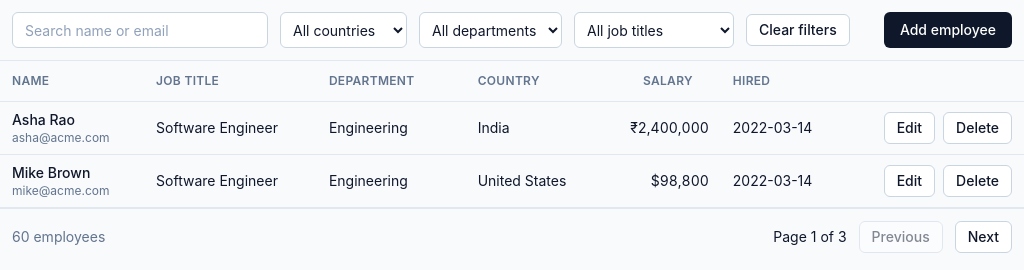
Test: EmployeesPage › paging › disables Previous on the first page and Next on the last
This screenshot has width=1024, height=270.
Expected: the text "Asha Rao" is shown, [12, 110, 75, 128]
Expected: the button "Previous" is disabled, [859, 220, 943, 252]
Click the button "Next" at point(983, 236), box [955, 220, 1012, 252]
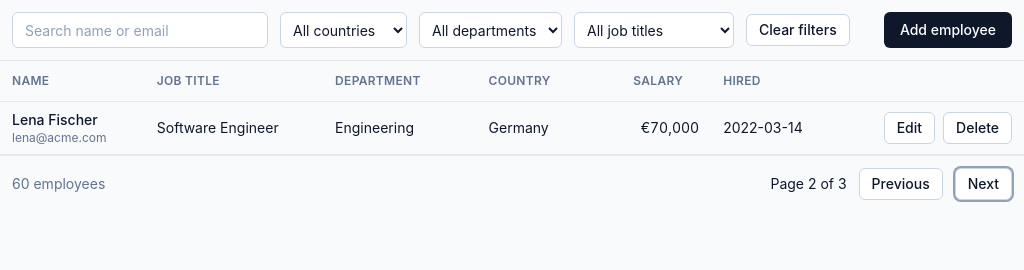
Now the text "Lena Fischer" is shown, box [12, 110, 98, 128]
Click the button "Next" at point(983, 184), box [955, 168, 1012, 200]
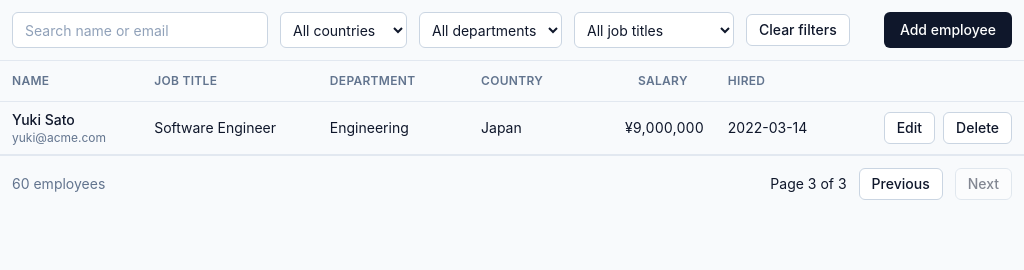
Now the text "Yuki Sato" is shown, box [12, 110, 75, 128]
Now the button "Next" is disabled, box [955, 168, 1012, 200]
